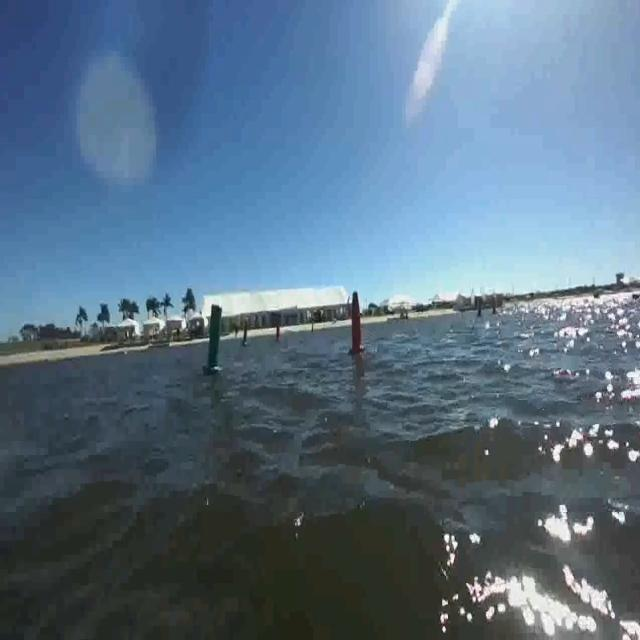green-column-buoy: (204, 302, 226, 376), (242, 324, 251, 348)
red-column-buoy: (347, 289, 366, 356), (276, 324, 282, 344)
